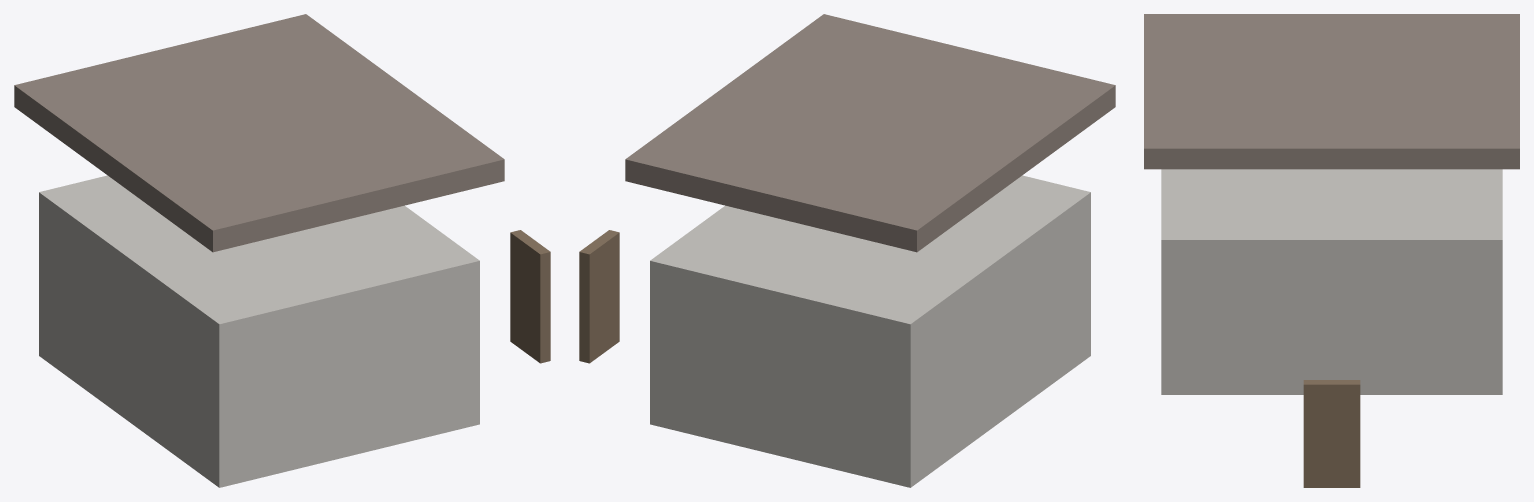
Rendered from building_garage.glb.
The picture shows the model from 3 angles, left to right: view 1: azimuth 30°, elevation 25°; view 2: azimuth 150°, elevation 25°; view 3: azimuth 270°, elevation 25°; orthographic projection. The views are drawn at different scales.
Parts seen in each view (by area): view 1: building_garage; view 2: building_garage; view 3: building_garage.
Boxes of the visible parts, x1,y1,x2,y2 form: building_garage: (14,14,550,487); building_garage: (579,14,1115,487); building_garage: (1144,14,1519,487).
Size of the model in its own units: 4.05 by 2.7 by 3.3.
